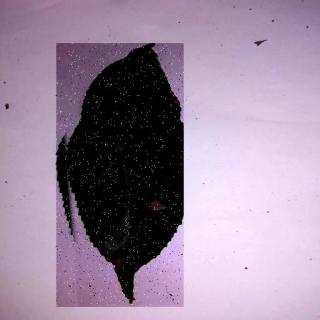Anthracnose: (57, 44, 185, 308)
